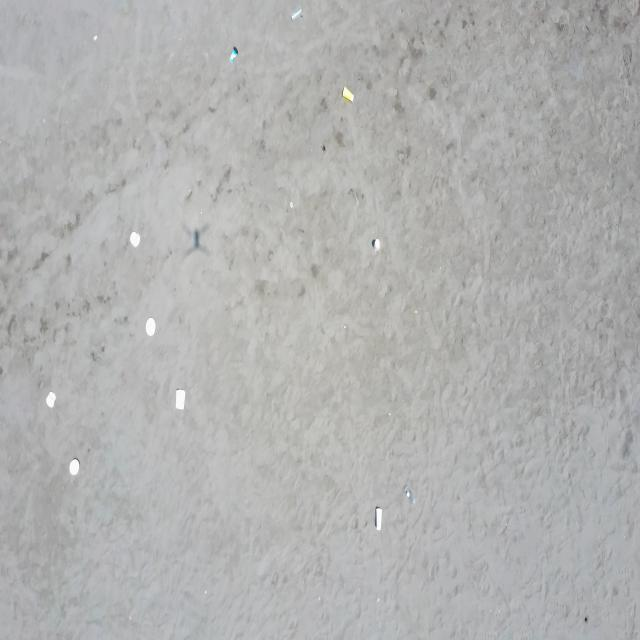take-away-containers: (175, 386, 185, 410), (69, 456, 80, 477), (146, 315, 156, 337), (45, 391, 56, 409), (130, 230, 140, 249)
takeaway-cup: (403, 484, 416, 507), (289, 5, 303, 22), (374, 506, 382, 532), (342, 87, 354, 102), (229, 45, 238, 62), (373, 239, 381, 250)
